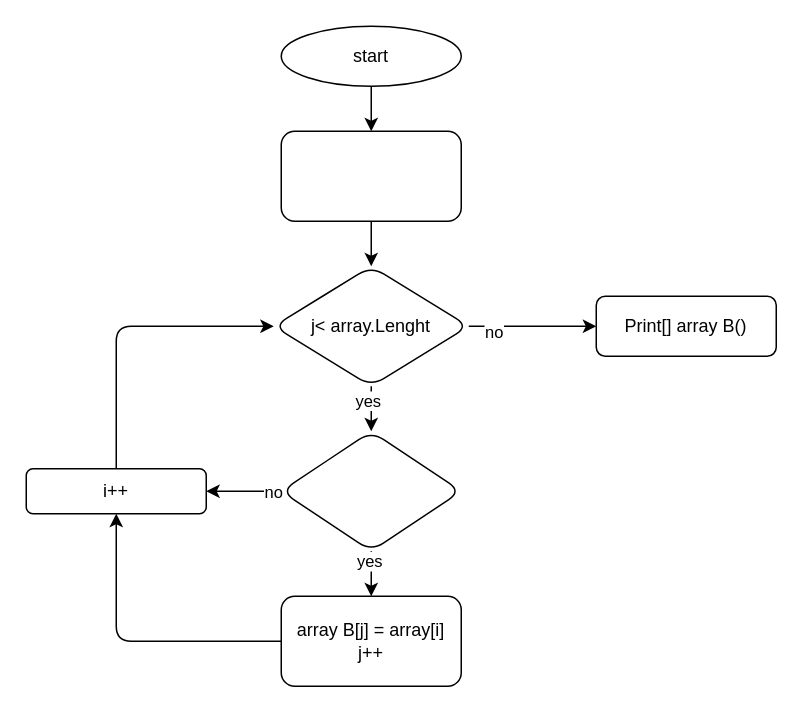
The diagram is 803 pixels wide and 713 high, and some of its shapes have lost their labels. Here are the shapes that lost their labels. From the top down, the centre of each, then its label:
point 370,175: [] array() []array B() i=0; j=0;
point 370,490: array[i] % 2 == 0?
